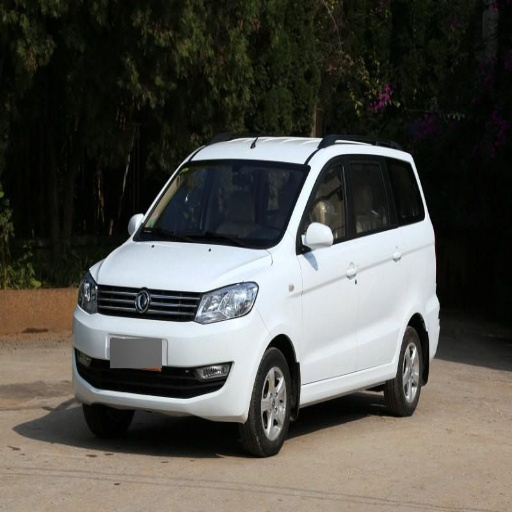front_bumper: (75, 282, 269, 421)
front_glass: (134, 159, 309, 248)
front_left_door: (298, 155, 361, 383)
